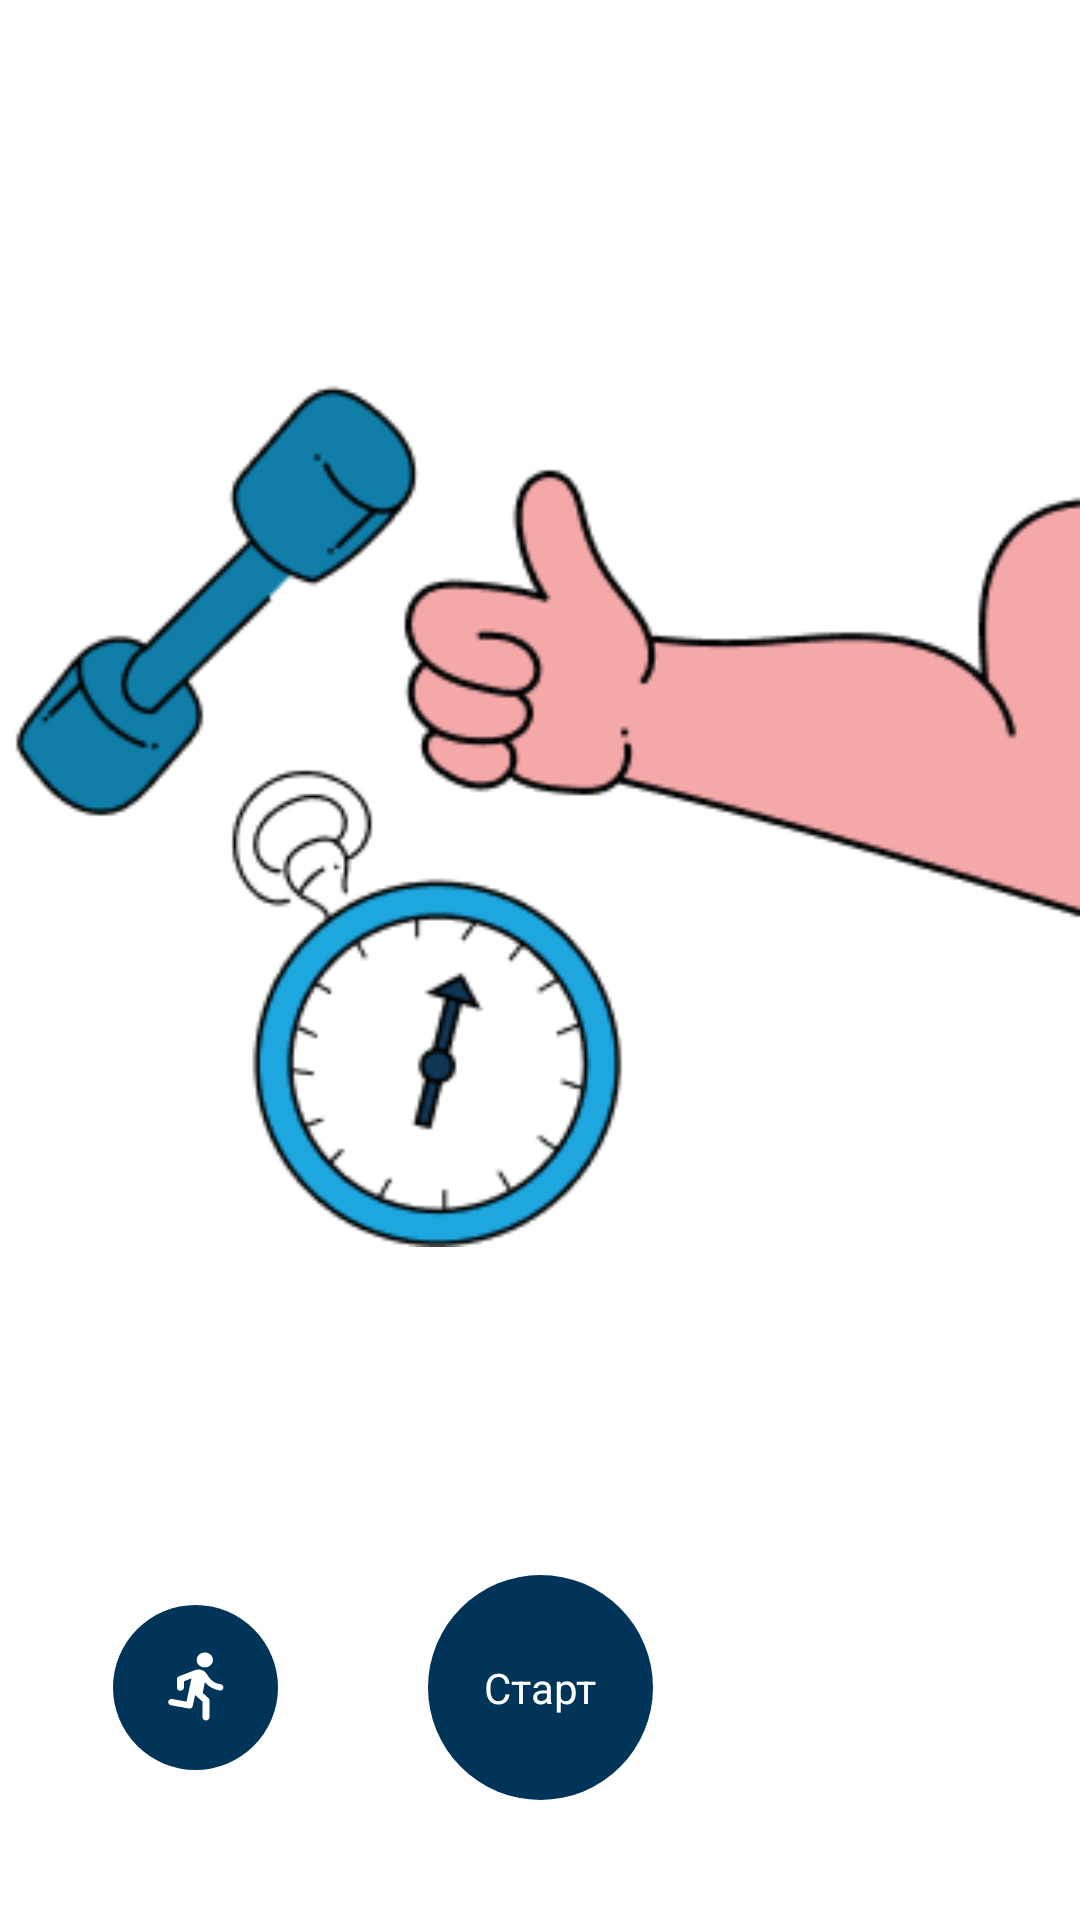

Icon bounding boxes for this 1080w x 1920h phone screenshot, format {"x1": x1, "y1": y1, "x2": x2, "y2": y2}:
run: {"x1": 113, "y1": 1605, "x2": 278, "y2": 1770}
